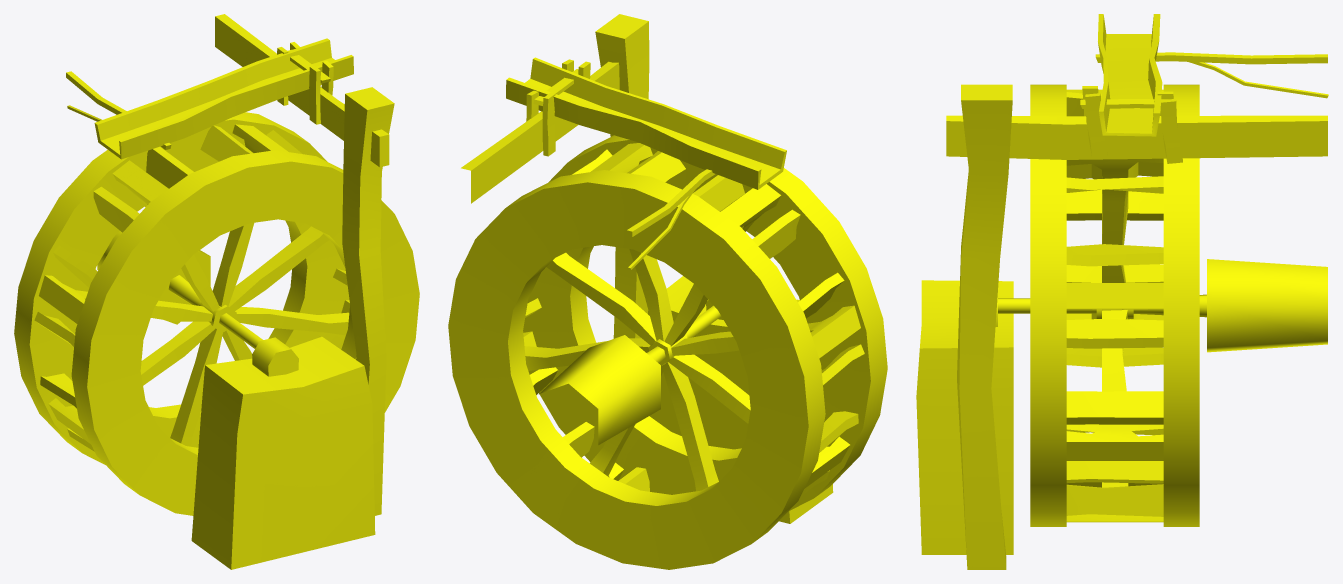
The model's file is SM_BLD_waterwheel_construct.glb.
The picture shows the model from 3 angles, left to right: view 1: azimuth 30°, elevation 25°; view 2: azimuth 150°, elevation 25°; view 3: azimuth 270°, elevation 25°; orthographic projection. The views are drawn at different scales.
Parts seen in each view (by area): view 1: SM_BLD_waterwheel, SM_BLD_waterwheel_construct; view 2: SM_BLD_waterwheel, SM_BLD_waterwheel_construct; view 3: SM_BLD_waterwheel_construct, SM_BLD_waterwheel.
Part boxes in pixels (box(x1,y1,x2,y2)): SM_BLD_waterwheel: box(14, 112, 419, 515); SM_BLD_waterwheel_construct: box(66, 14, 394, 569); SM_BLD_waterwheel: box(448, 135, 887, 569); SM_BLD_waterwheel_construct: box(461, 14, 833, 523); SM_BLD_waterwheel_construct: box(916, 14, 1328, 569); SM_BLD_waterwheel: box(998, 84, 1206, 526).
Bounding box in the file's own units: 6.24 × 7.36 × 5.77.
Materials: 5 (5 with a texture image).
